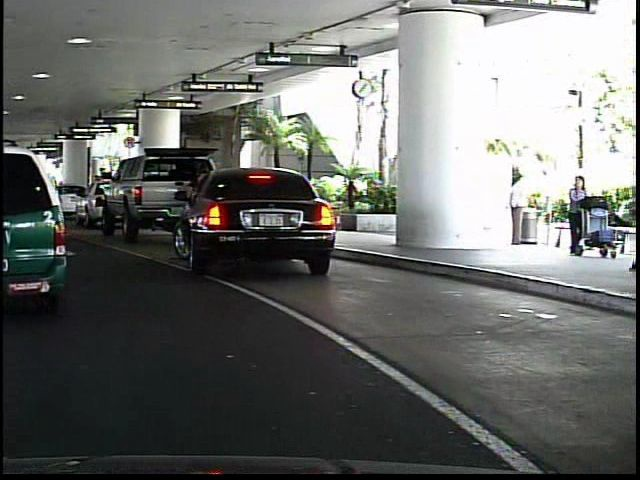person: (561, 169, 591, 262)
